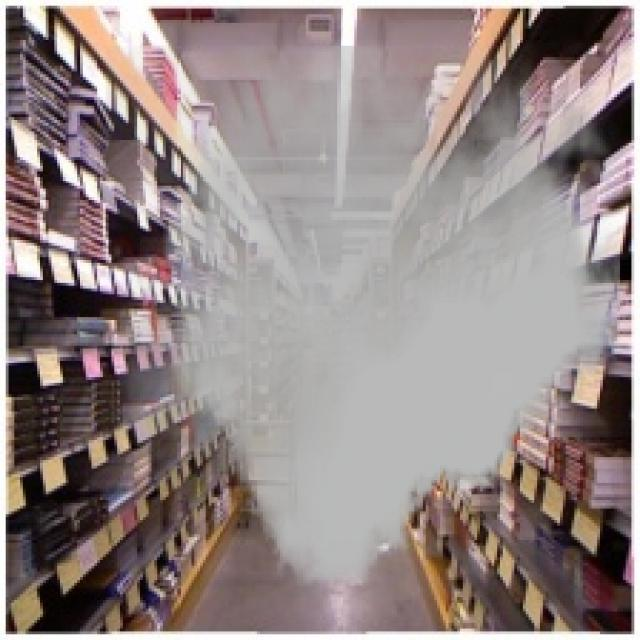Smoke: (106, 46, 628, 586)
